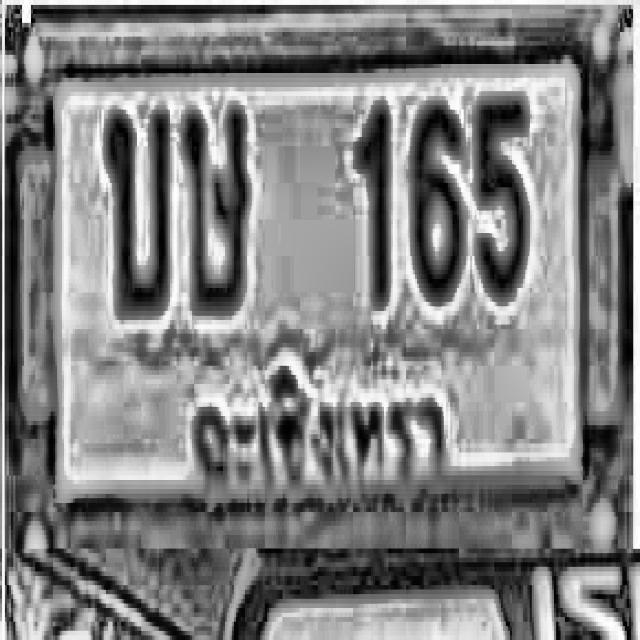license-plate: (20, 0, 624, 544)
